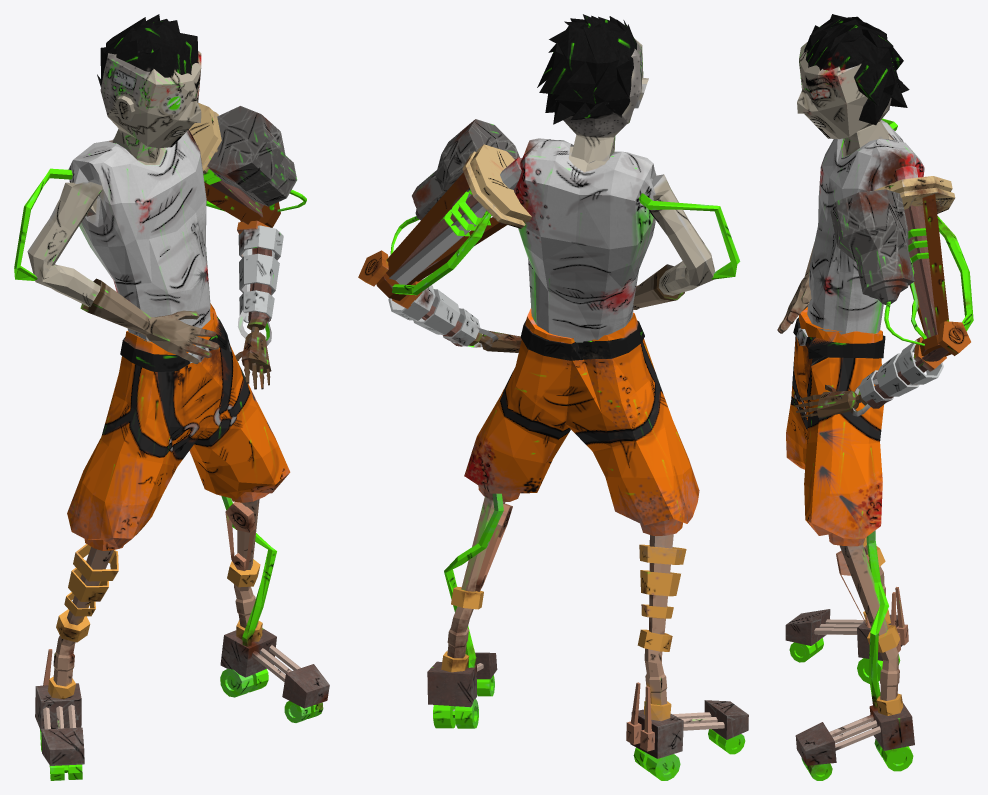
The model's file is CyborgFINALAnimation_000069.obj.
The picture shows the model from 3 angles, left to right: view 1: azimuth 30°, elevation 25°; view 2: azimuth 150°, elevation 25°; view 3: azimuth 270°, elevation 25°; orthographic projection. The views are drawn at different scales.
Visible parts, largest first — view 1: CyborgMesh_Cube.002; view 2: CyborgMesh_Cube.002; view 3: CyborgMesh_Cube.002.
Boxes of the visible parts, <box> form: CyborgMesh_Cube.002: <box>14,14,329,780</box>; CyborgMesh_Cube.002: <box>358,14,748,780</box>; CyborgMesh_Cube.002: <box>777,14,973,780</box>.
Size of the model in its own units: 4.44 by 9.6 by 2.46.
